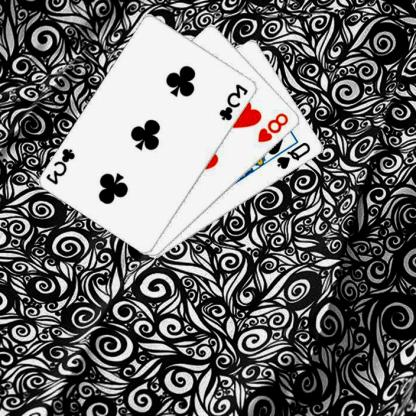3C: (219, 81, 251, 122), (46, 146, 78, 186)
8H: (258, 111, 292, 144)
QS: (276, 139, 314, 171)
